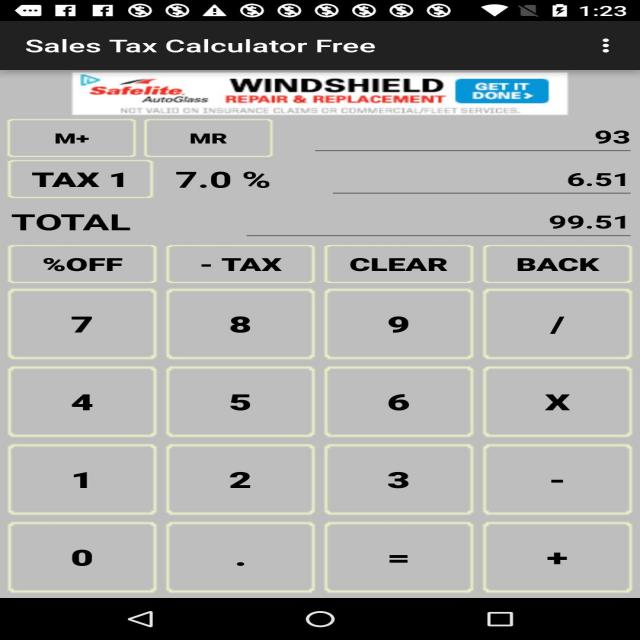button: (16, 107, 640, 596)
